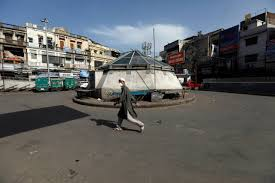mask: (116, 77, 125, 88)
